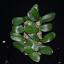leaf: (40, 32, 57, 43), (25, 39, 39, 51), (27, 12, 41, 22), (10, 32, 25, 41), (28, 51, 40, 62), (40, 46, 53, 56), (41, 12, 55, 21), (13, 41, 25, 51), (28, 32, 40, 42), (24, 26, 39, 34), (12, 17, 26, 25), (24, 46, 40, 53), (12, 26, 25, 34), (39, 23, 52, 31), (32, 8, 40, 20), (39, 18, 43, 30), (26, 22, 33, 26), (22, 15, 26, 21)
